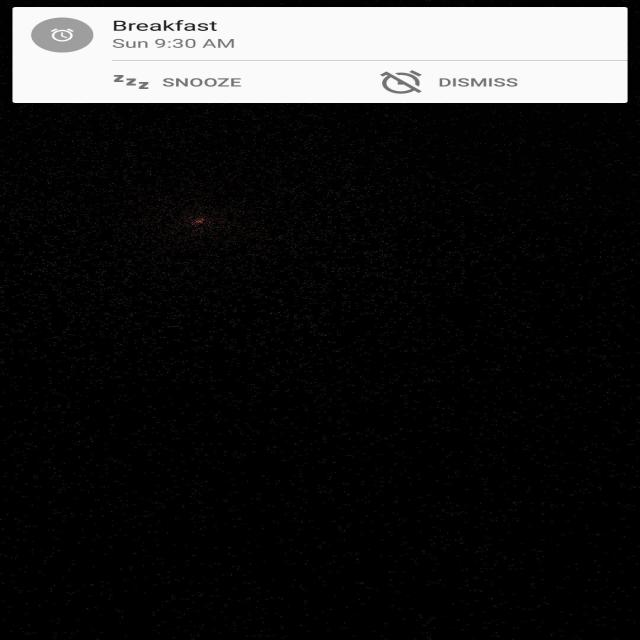button: (107, 64, 556, 105)
image: (9, 103, 636, 640)
text: (107, 14, 272, 60)
